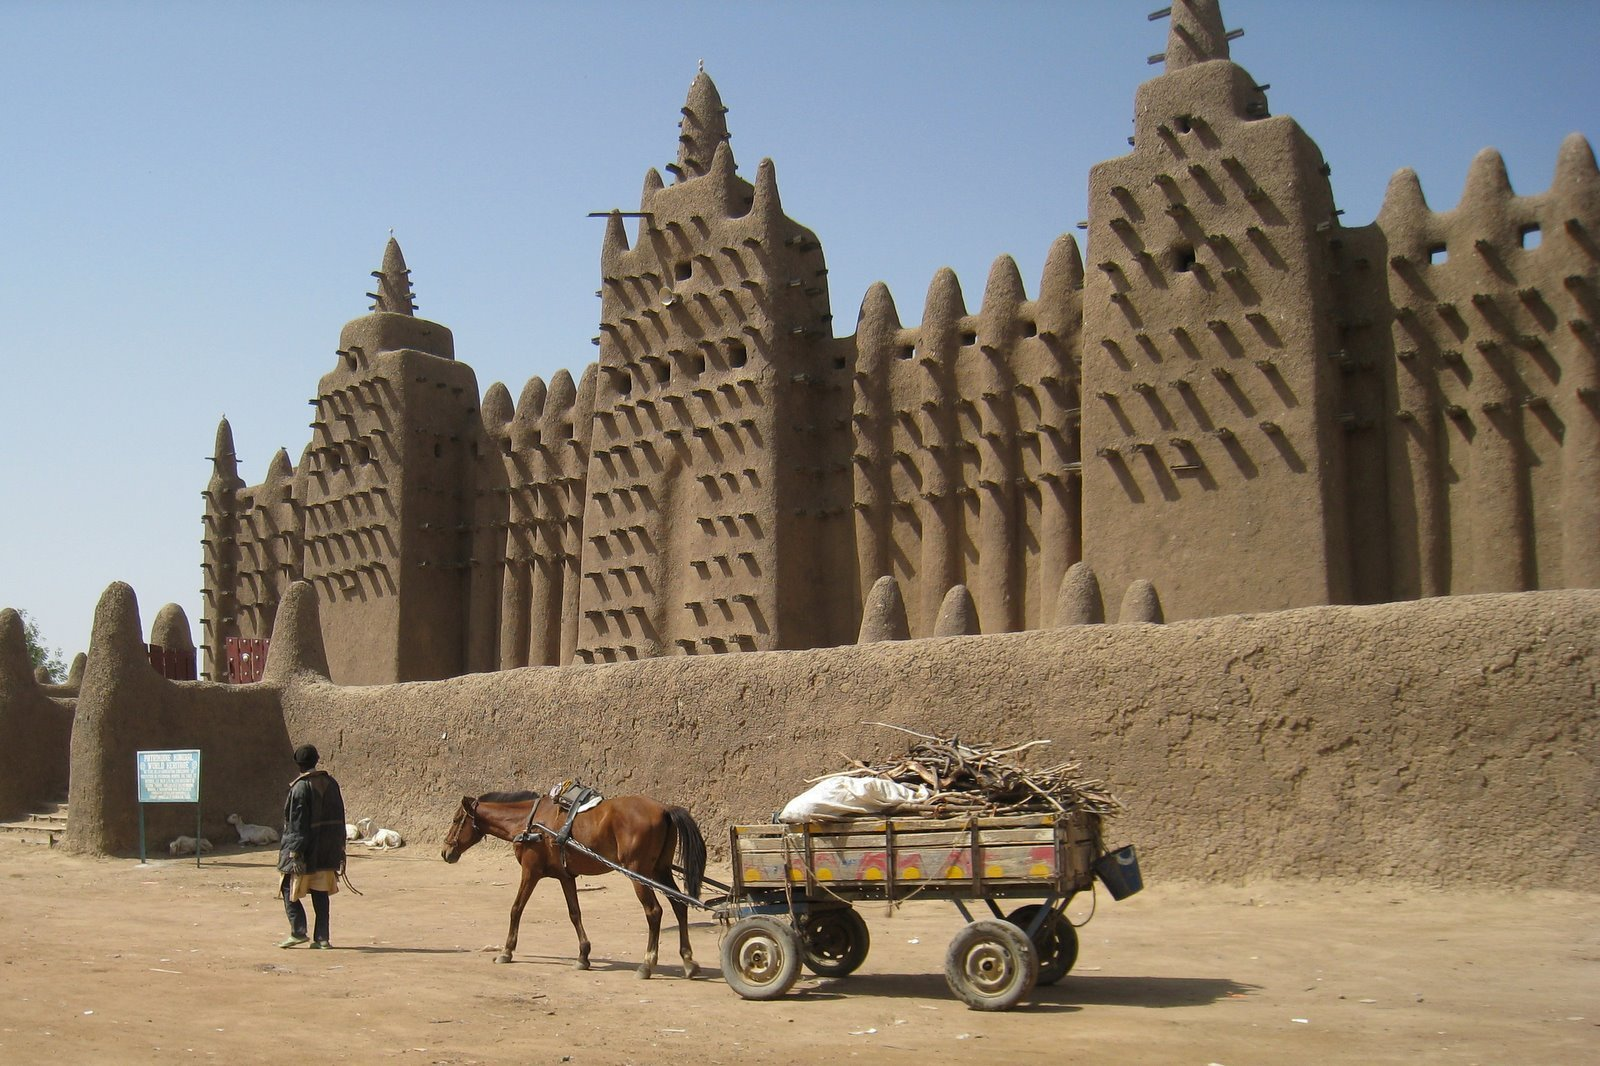horse: (440, 786, 708, 978)
